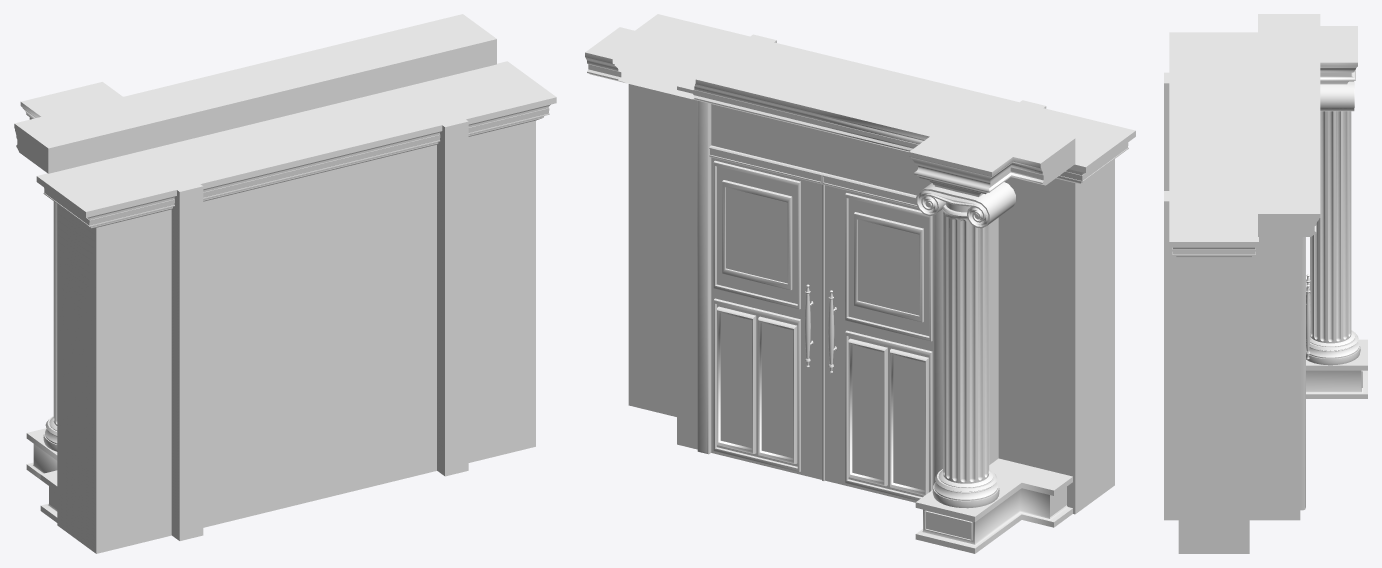
Rendered from Tutorial_Normal.fbx.
3 views of the same model, side by side, from view 1: azimuth 30°, elevation 25°; view 2: azimuth 150°, elevation 25°; view 3: azimuth 270°, elevation 25° (orthographic). The views are drawn at different scales.
Parts seen in each view (by area): view 1: TutorialMap04; view 2: TutorialMap04; view 3: TutorialMap04.
Part boxes in pixels (bbox=[...]): TutorialMap04: bbox=[14, 14, 556, 553]; TutorialMap04: bbox=[585, 14, 1135, 553]; TutorialMap04: bbox=[1164, 14, 1367, 553].
Size of the model in its own units: 140 by 106 by 57.43.
